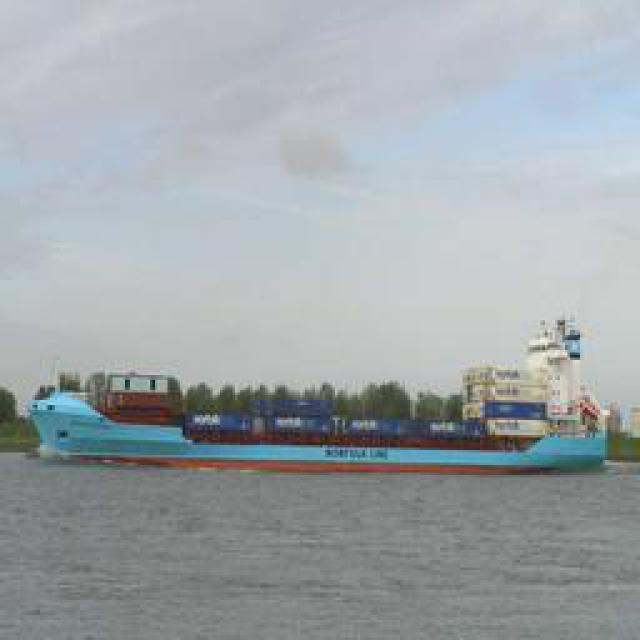Ship: (32, 368, 612, 473)
